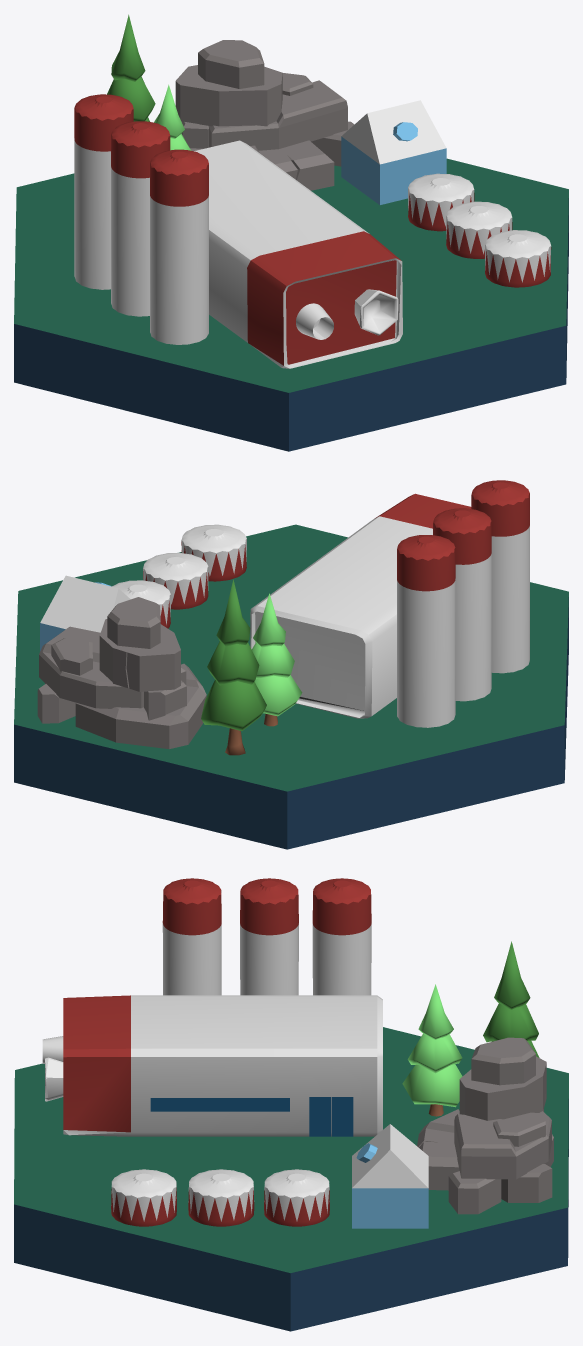
Rendered from Macro - Electric lvl 3 WM3.fbx.
3 renders of one model, top to bottom at view 1: azimuth 30°, elevation 25°; view 2: azimuth 150°, elevation 25°; view 3: azimuth 270°, elevation 25°, orthographic.
Parts seen in each view (by area): view 1: Cylinder.154, Cube battery.011, Rock Type1 02 mesh.013, Cylinder battery, Cylinder battery.004, milkbox1.011, Cylinder battery.005, Cylinder battery.003, Cylinder battery.002, Cylinder battery.001, Tree_Spruce_tiny_01.002, Tree_Spruce_tiny_01.001; view 2: Cylinder.154, Cube battery.011, Rock Type1 02 mesh.013, Cylinder battery.005, Cylinder battery, Cylinder battery.004, Tree_Spruce_tiny_01.002, Tree_Spruce_tiny_01.001, milkbox1.011, Cylinder battery.003, Cylinder battery.002, Cylinder battery.001; view 3: Cylinder.154, Cube battery.011, Rock Type1 02 mesh.013, milkbox1.011, Cylinder battery.005, Cylinder battery, Cylinder battery.004, Tree_Spruce_tiny_01.001, Cylinder battery.002, Cylinder battery.001, Cylinder battery.003, Tree_Spruce_tiny_01.002 (+3 smaller).
Part boxes in pixels (bbox=[...]): Cylinder.154: bbox=[14, 158, 568, 451]; Cube battery.011: bbox=[194, 140, 402, 368]; Rock Type1 02 mesh.013: bbox=[175, 40, 354, 190]; Cylinder battery: bbox=[150, 149, 208, 344]; Cylinder battery.004: bbox=[111, 121, 170, 316]; milkbox1.011: bbox=[341, 100, 446, 204]; Cylinder battery.005: bbox=[74, 94, 133, 289]; Cylinder battery.003: bbox=[485, 230, 551, 287]; Cylinder battery.002: bbox=[446, 201, 512, 258]; Cylinder battery.001: bbox=[408, 173, 474, 231]; Tree_Spruce_tiny_01.002: bbox=[107, 14, 155, 121]; Tree_Spruce_tiny_01.001: bbox=[154, 84, 191, 150]; Cylinder.154: bbox=[14, 524, 568, 849]; Cube battery.011: bbox=[250, 493, 471, 718]; Rock Type1 02 mesh.013: bbox=[37, 597, 206, 749]; Cylinder battery.005: bbox=[397, 535, 455, 727]; Cylinder battery: bbox=[471, 480, 529, 673]; Cylinder battery.004: bbox=[433, 508, 491, 701]; Tree_Spruce_tiny_01.002: bbox=[201, 579, 266, 755]; Tree_Spruce_tiny_01.001: bbox=[251, 593, 302, 726]; milkbox1.011: bbox=[40, 575, 130, 651]; Cylinder battery.003: bbox=[181, 524, 246, 581]; Cylinder battery.002: bbox=[143, 552, 208, 609]; Cylinder battery.001: bbox=[112, 580, 170, 628]; Cylinder.154: bbox=[14, 1027, 568, 1331]; Cube battery.011: bbox=[42, 995, 382, 1136]; Rock Type1 02 mesh.013: bbox=[417, 1037, 553, 1214]; milkbox1.011: bbox=[352, 1124, 428, 1228]; Cylinder battery.005: bbox=[312, 878, 371, 995]; Cylinder battery: bbox=[162, 878, 221, 995]; Cylinder battery.004: bbox=[240, 878, 298, 995]; Tree_Spruce_tiny_01.001: bbox=[402, 984, 462, 1116]; Cylinder battery.002: bbox=[188, 1169, 254, 1226]; Cylinder battery.001: bbox=[264, 1169, 329, 1226]; Cylinder battery.003: bbox=[111, 1169, 176, 1226]; Tree_Spruce_tiny_01.002: bbox=[483, 941, 539, 1057].
Size of the model in its own units: 197 by 80.5 by 172.
